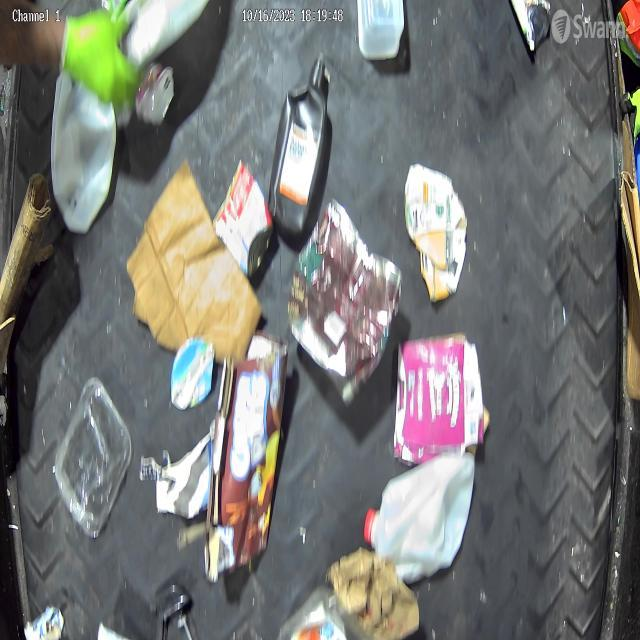can: (288, 198, 404, 404), (213, 161, 275, 279)
milk_jug: (363, 452, 478, 582), (52, 78, 118, 233)
non_white_jug: (392, 331, 490, 463), (267, 56, 329, 236)
